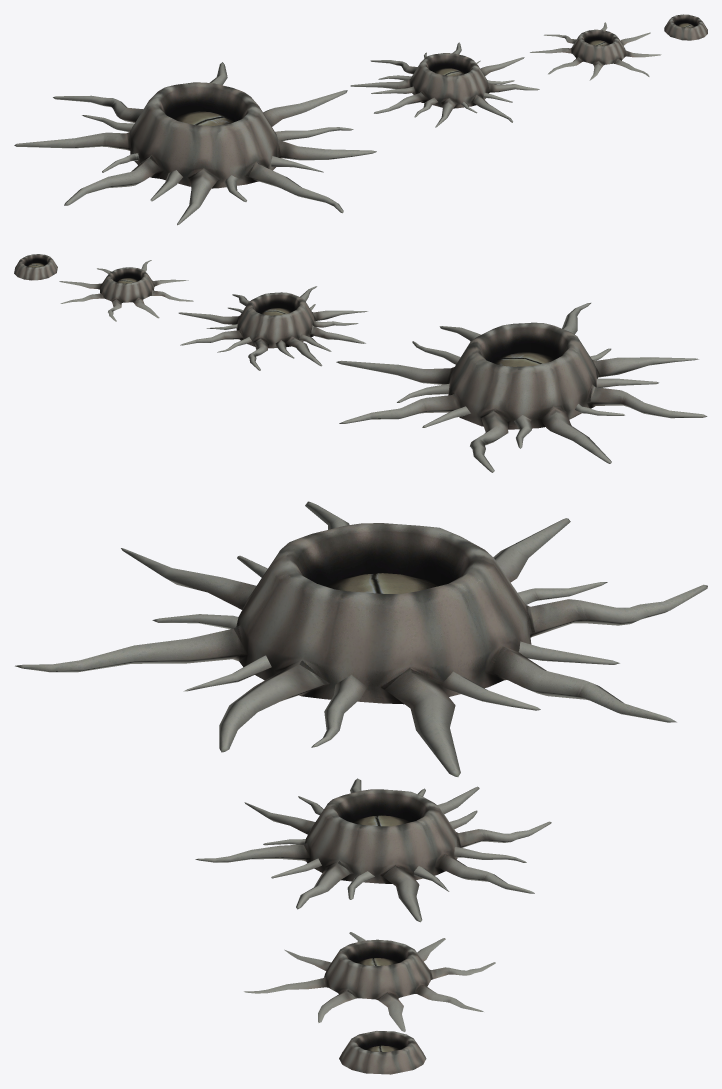
Rendered from barnacles.fbx.
The picture shows the model from 3 angles, top to bottom: view 1: azimuth 30°, elevation 25°; view 2: azimuth 150°, elevation 25°; view 3: azimuth 270°, elevation 25°; orthographic projection. The views are drawn at different scales.
Parts seen in each view (by area): view 1: smd_mesh, smd_mesh.001, smd_mesh.002, smd_mesh.003; view 2: smd_mesh, smd_mesh.001, smd_mesh.002, smd_mesh.003; view 3: smd_mesh, smd_mesh.001, smd_mesh.002, smd_mesh.003.
Boxes of the visible parts, x1,y1,x2,y2 form: smd_mesh: (14,62,376,225); smd_mesh.001: (350,42,539,127); smd_mesh.002: (530,22,661,80); smd_mesh.003: (664,14,707,40); smd_mesh: (336,303,707,472); smd_mesh.001: (178,286,367,370); smd_mesh.002: (59,260,193,321); smd_mesh.003: (14,254,57,280); smd_mesh: (15,501,707,776); smd_mesh.001: (195,778,551,922); smd_mesh.002: (244,932,495,1031); smd_mesh.003: (339,1031,426,1074).
Bounding box in the file's own units: 10.37 × 0.7869 × 5.26.
